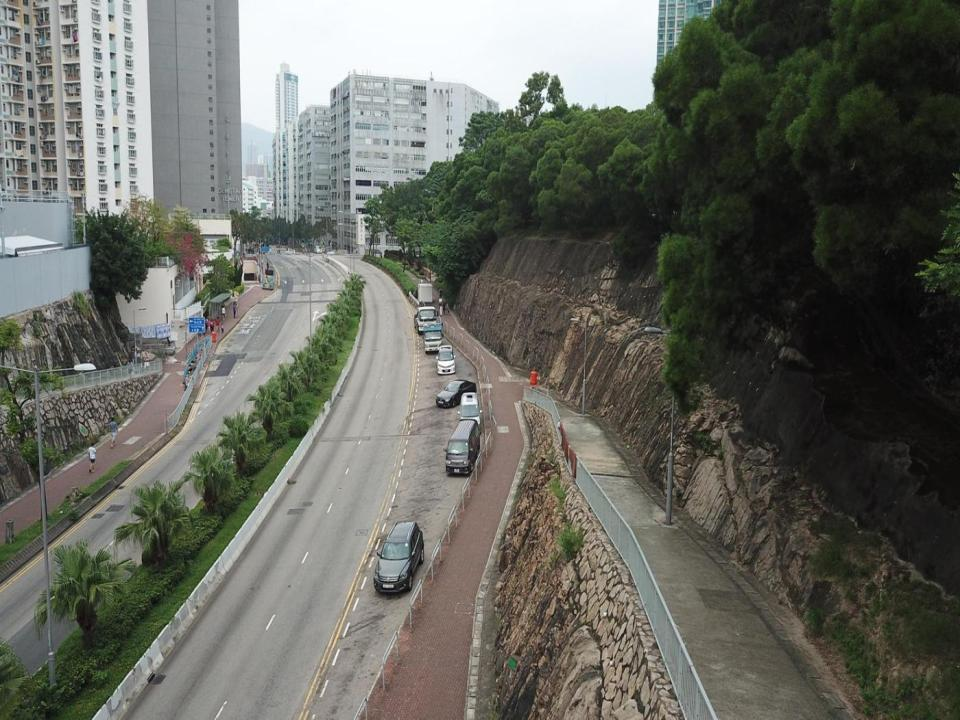car: (436, 380, 476, 410), (314, 246, 322, 253)
truck: (413, 306, 438, 335), (423, 317, 443, 352)
van: (373, 520, 426, 598), (443, 420, 479, 475), (459, 392, 482, 430), (438, 344, 455, 376)
